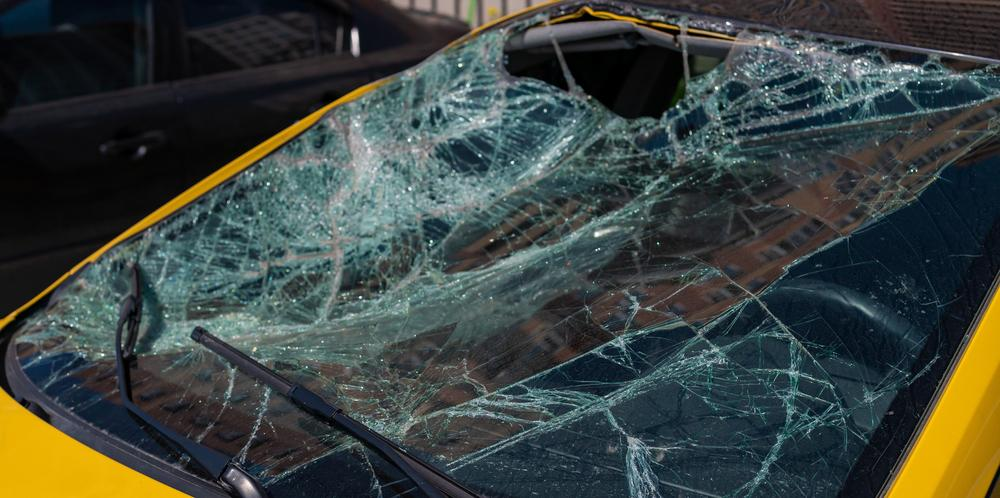glass shatter: (17, 1, 1000, 498)
